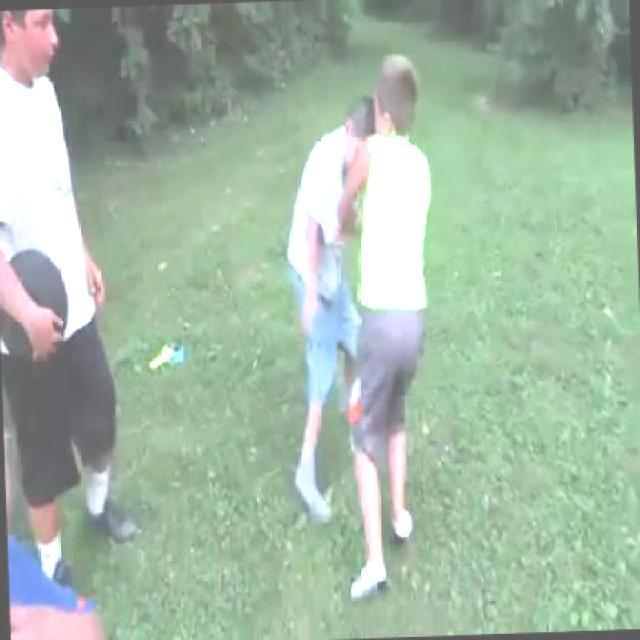fight: (281, 53, 444, 601)
